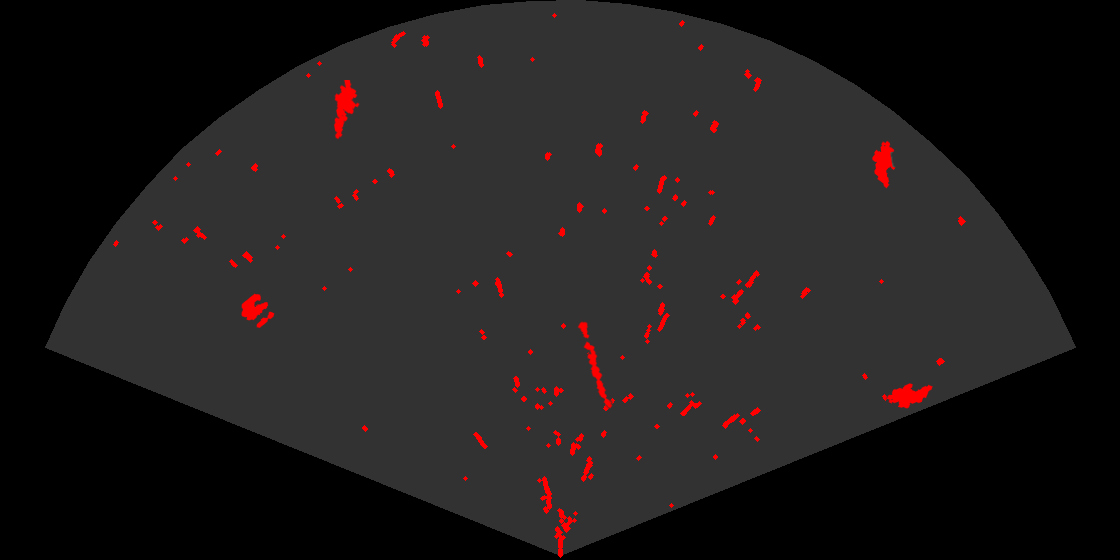AUV: (885, 382, 934, 410), (871, 139, 897, 190)
ball: (240, 292, 276, 330)
chain: (576, 318, 614, 410)
frogman: (332, 80, 361, 141)
